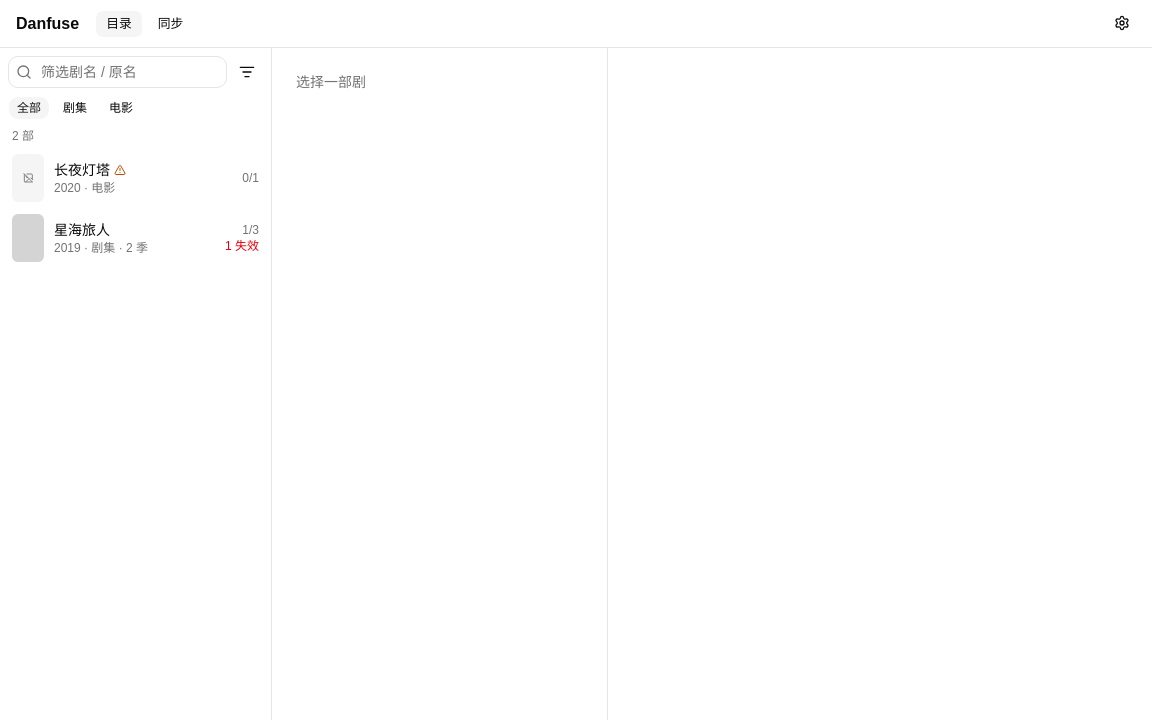
Test: CatalogView › 剧列表按分类筛选：分类在地址栏里，点进剧、切换分类都保留
Expected: the text "2 部" is shown, [12,129,34,143]
Click the link "电影" at (121, 108), box [109,101,133,115]
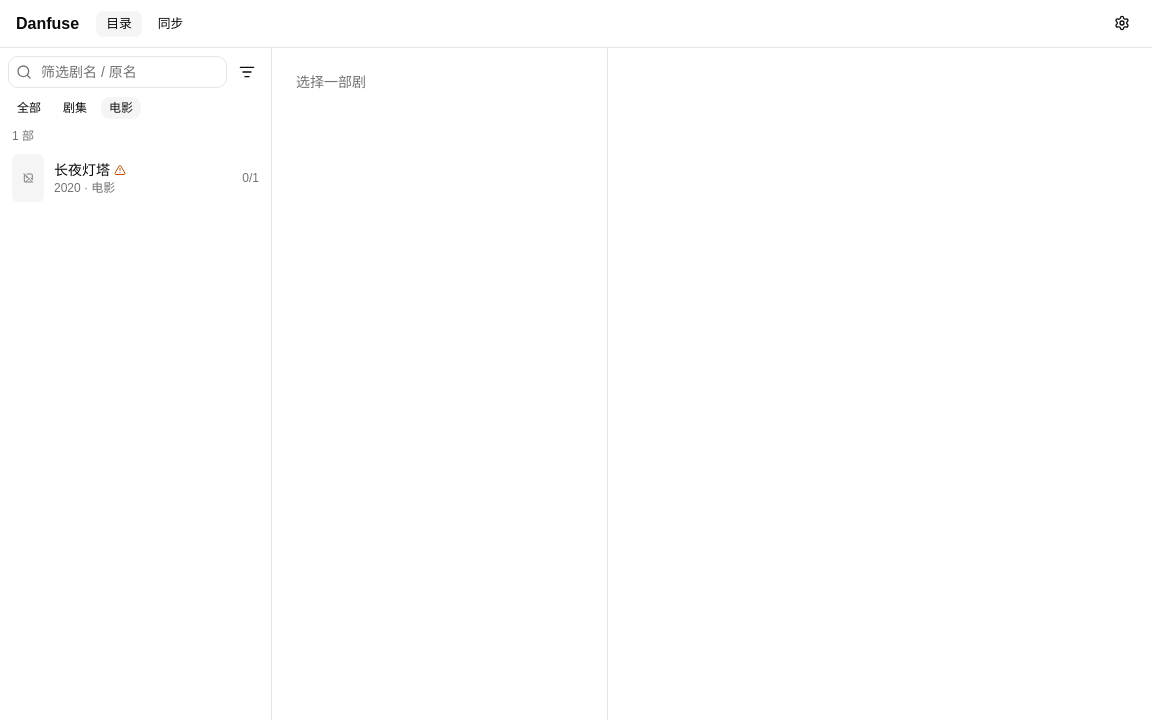
Result: the text "1 部" is shown at [12,129,34,143]
Result: the link "星海旅人" is gone
# 点进剧，分类留在地址栏里
Click the link "长夜灯塔 2020 · 电影 0/1" at (28, 178), box [0,148,271,208]
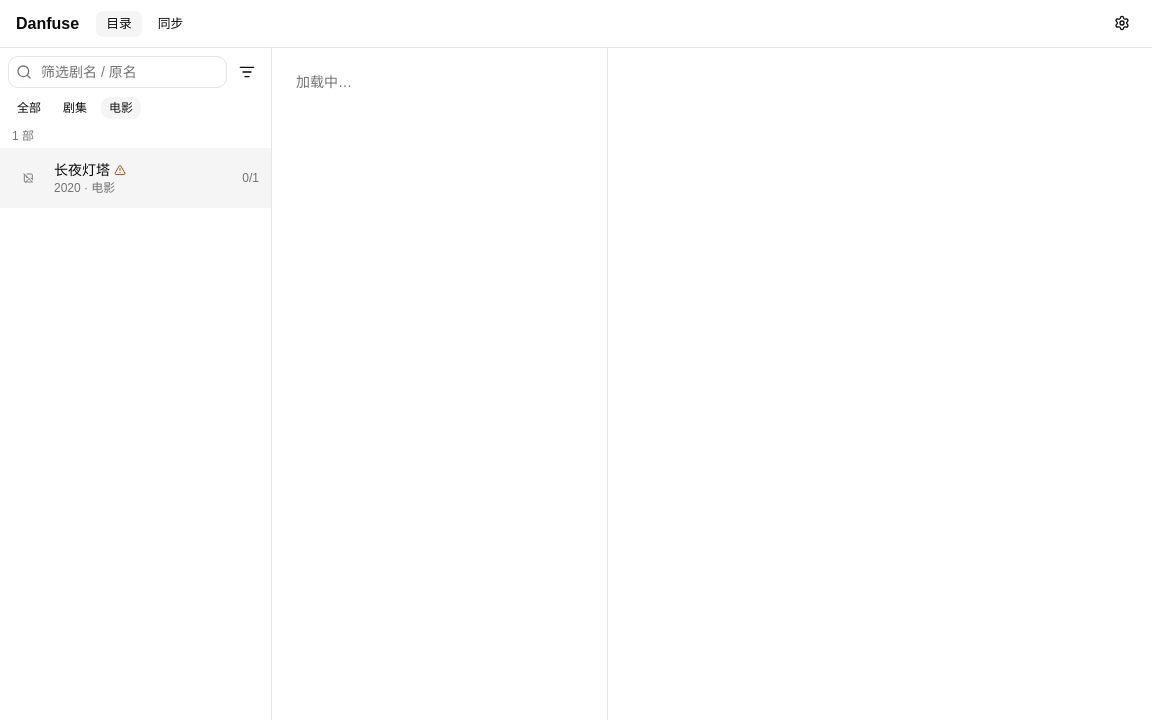
Result: the text "1 部" is shown at [12,129,34,143]
# 切换分类时选中的剧不变
Click the link "剧集" at (75, 108), box [63,101,87,115]
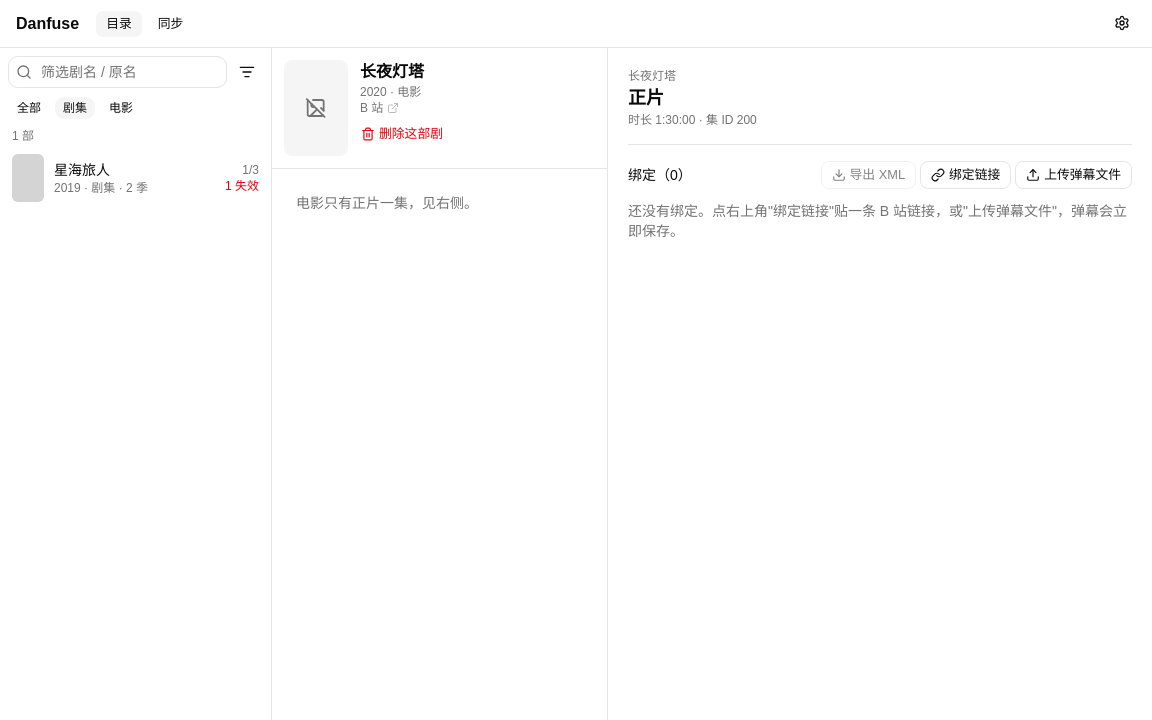
Result: the link "星海旅人 2019 · 剧集 · 2 季 1/3 1 失效" is shown at [0,148,271,208]
Type "灯塔" into the field named "筛选剧名或原名" at (118, 72), box [8,56,227,88]
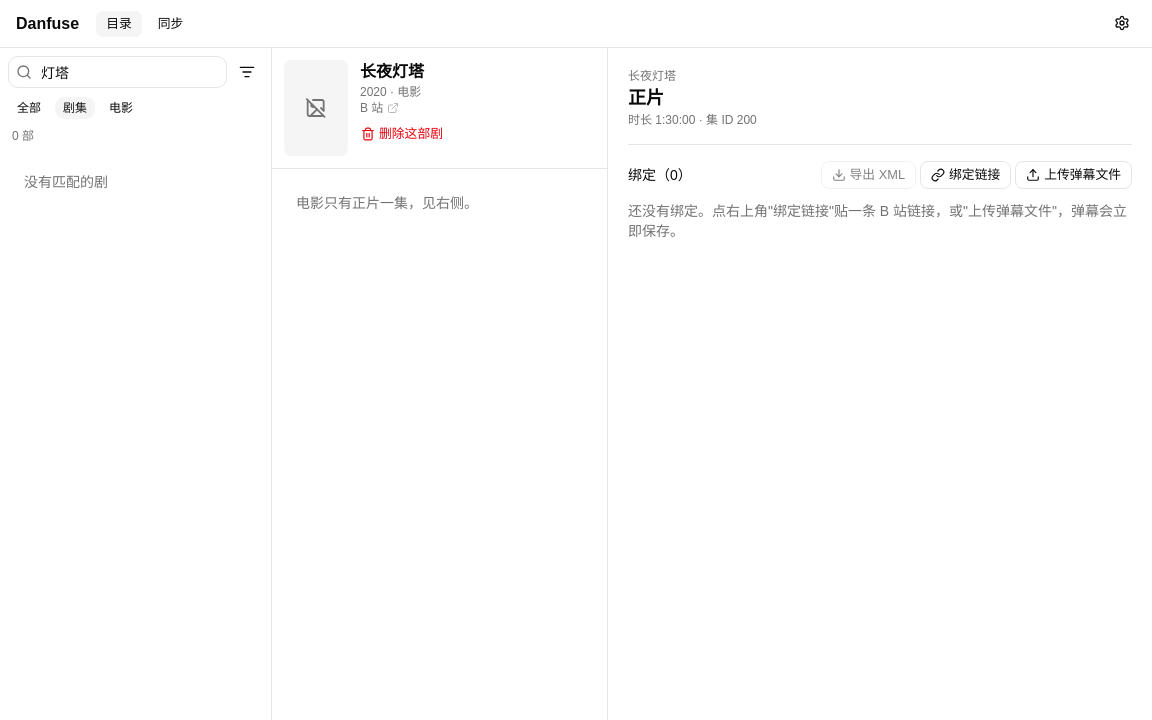
Result: the text "没有匹配的剧" is shown at [24,174,108,190]
Click the link "全部" at (29, 108), box [17,101,41,115]
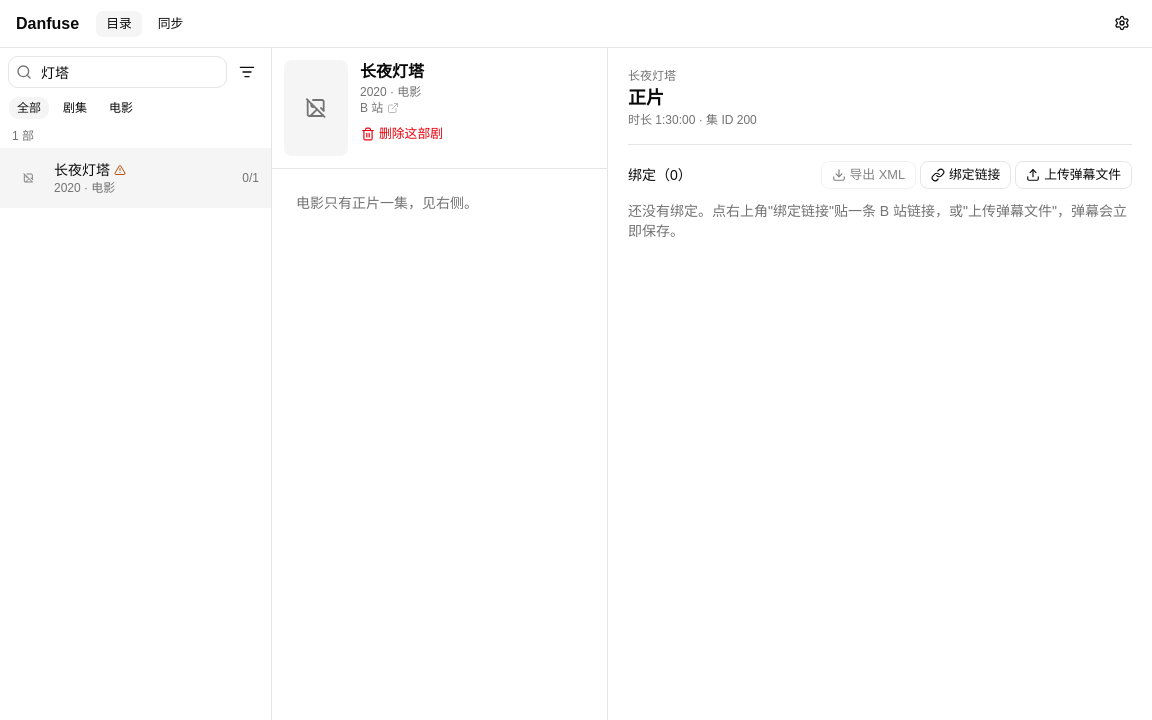
Result: the link "长夜灯塔 2020 · 电影 0/1" is shown at [0,148,271,208]
